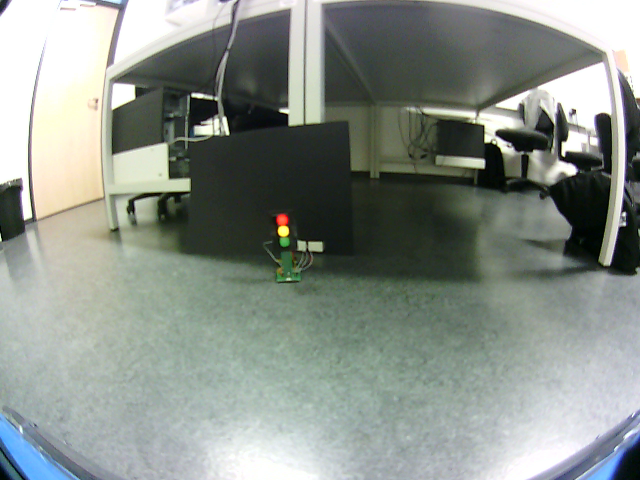red yellow trafficlight: (274, 212, 292, 248)
